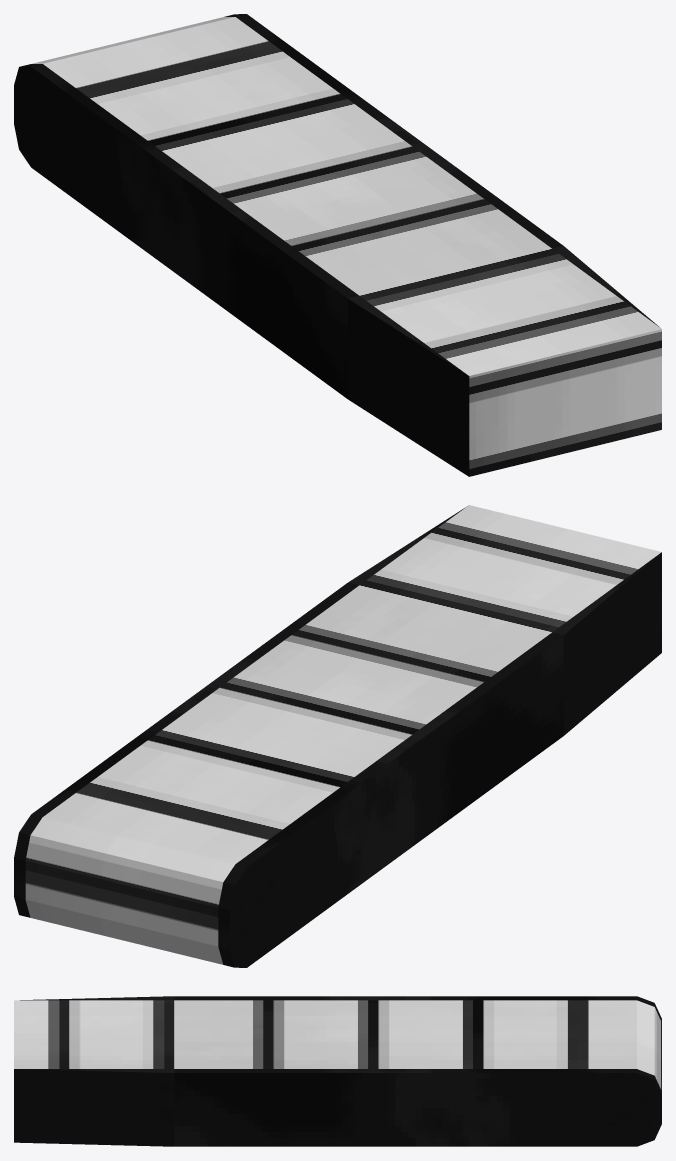
File: TermProject_con_belt_long.fbx
The picture shows the model from 3 angles, top to bottom: view 1: azimuth 30°, elevation 25°; view 2: azimuth 150°, elevation 25°; view 3: azimuth 270°, elevation 25°; orthographic projection. The views are drawn at different scales.
Visible parts, largest first — view 1: Cube.159; view 2: Cube.159; view 3: Cube.159.
Part boxes in pixels (x1,y1,x2,y2): Cube.159: [14, 14, 661, 476]; Cube.159: [14, 505, 661, 967]; Cube.159: [14, 996, 661, 1146].
Bounding box in the file's own units: 224 × 100 × 797.
